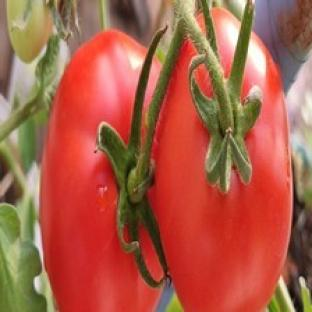Tomato: (155, 34, 292, 311), (41, 31, 160, 311)
